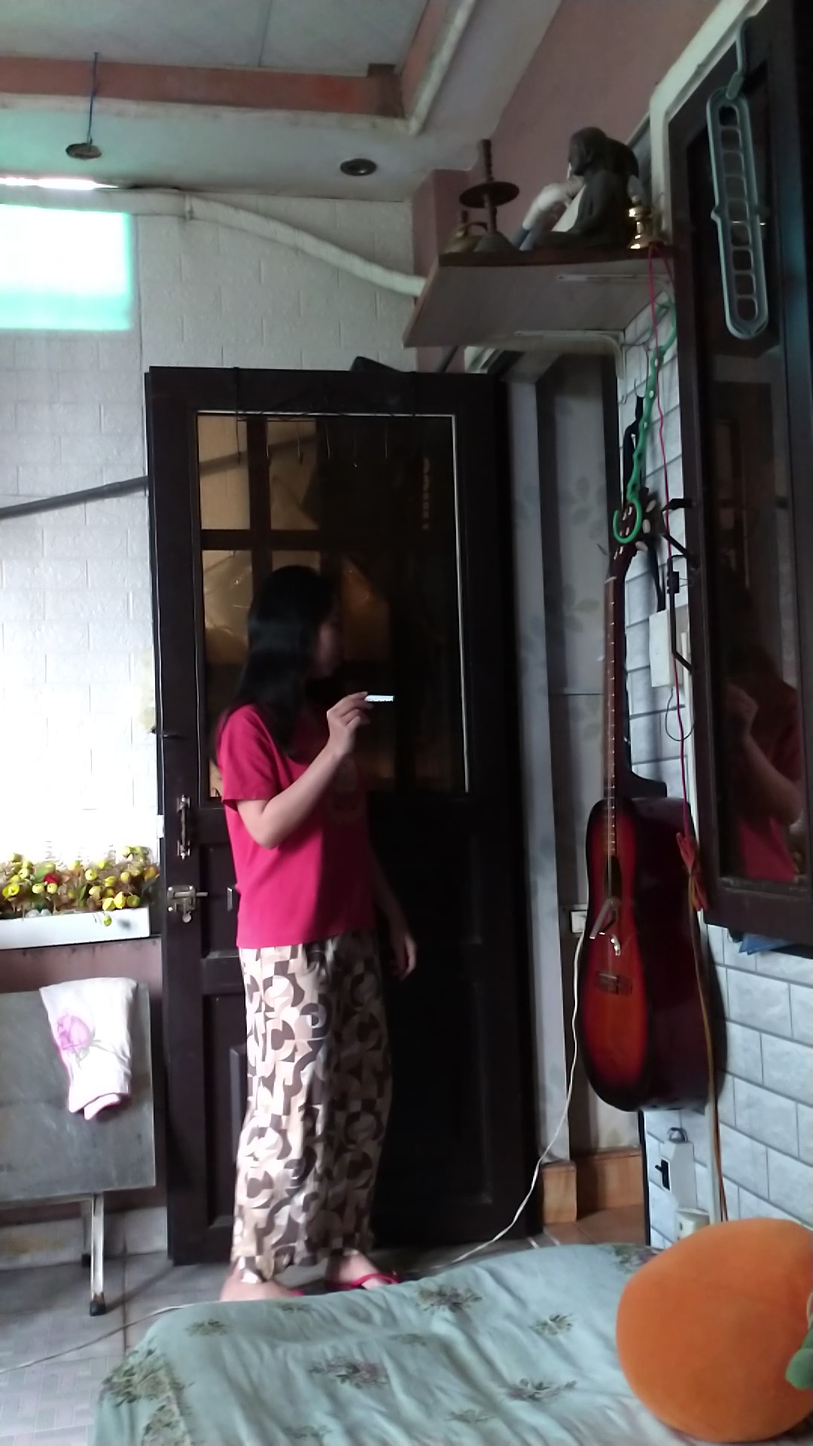cigarette: (364, 691, 399, 706)
person: (214, 543, 417, 1297)
